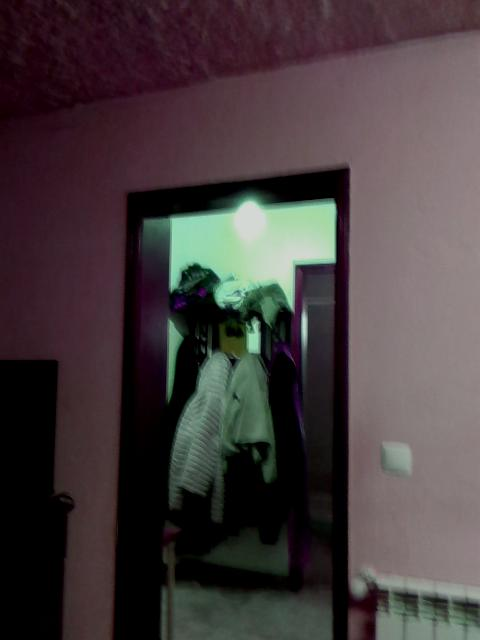open_door: (114, 162, 353, 639)
